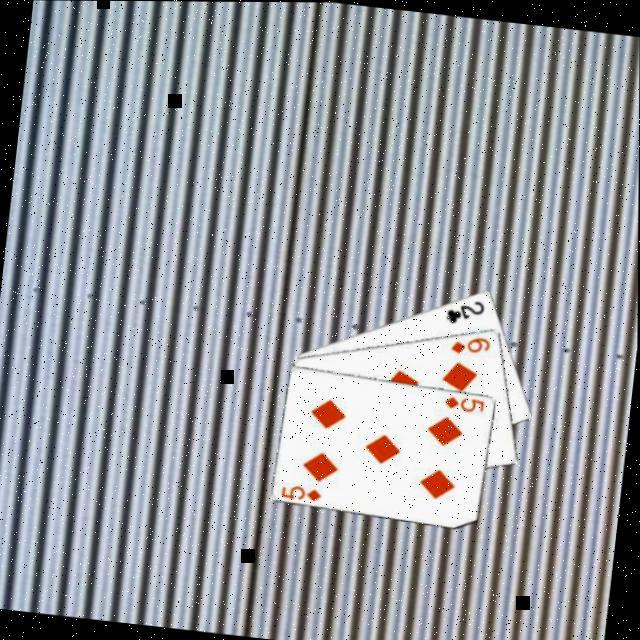2C: (444, 292, 488, 327)
5D: (278, 479, 326, 504), (442, 390, 489, 414)
6D: (448, 330, 494, 358)
